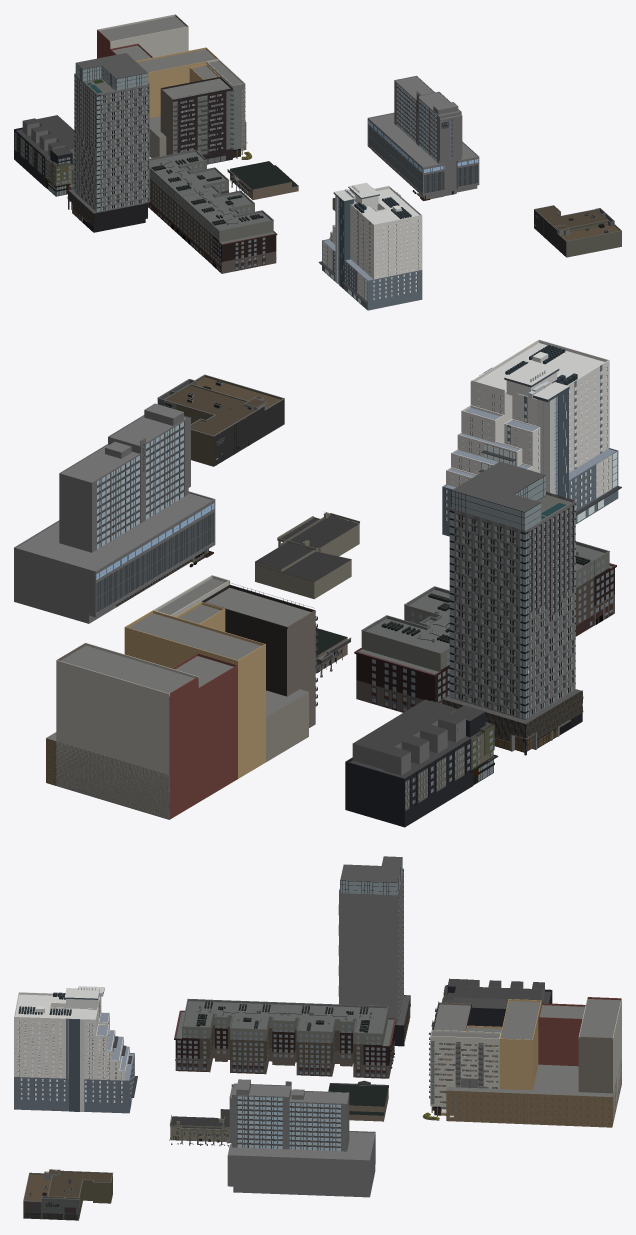
3 views of the same model, one above another, from view 1: azimuth 30°, elevation 25°; view 2: azimuth 150°, elevation 25°; view 3: azimuth 270°, elevation 25° (orthographic). The views are drawn at different scales.
Parts seen in each view (by area): view 1: opaque, glass; view 2: opaque, glass; view 3: opaque, glass.
Part boxes in pixels (x1=…): opaque: x1=14, y1=14, x2=621, y2=310; glass: x1=15, y1=63, x2=478, y2=303; opaque: x1=14, y1=339, x2=621, y2=827; glass: x1=96, y1=367, x2=617, y2=807; opaque: x1=14, y1=856, x2=621, y2=1220; glass: x1=17, y1=859, x2=498, y2=1219.
Size of the model in its own units: 265 by 97.4 by 330.
5 materials, 5 textured.
